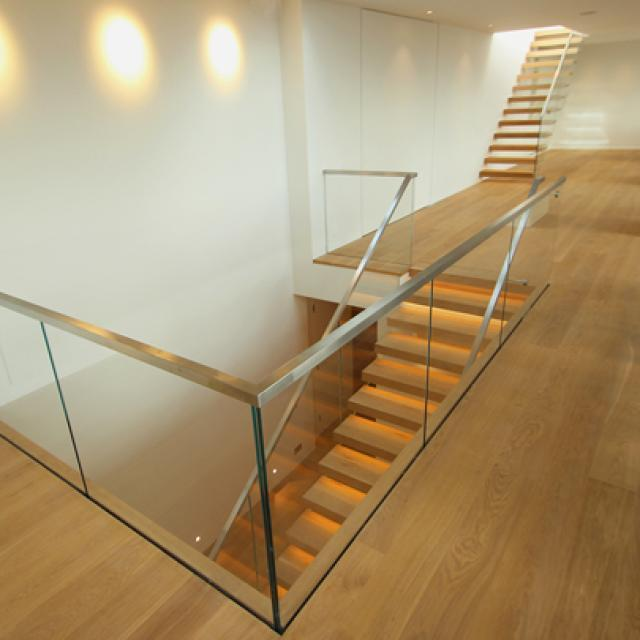stairs: (478, 27, 586, 184)
